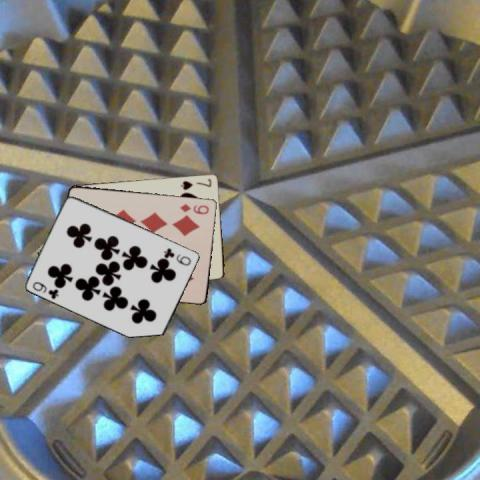7s: (178, 175, 213, 191)
9c: (161, 244, 192, 267), (29, 278, 60, 300)
9d: (177, 201, 211, 215)
